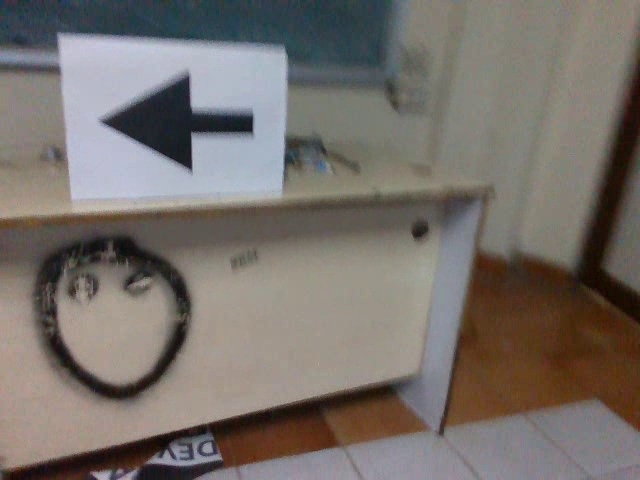Left: (91, 63, 258, 182)
